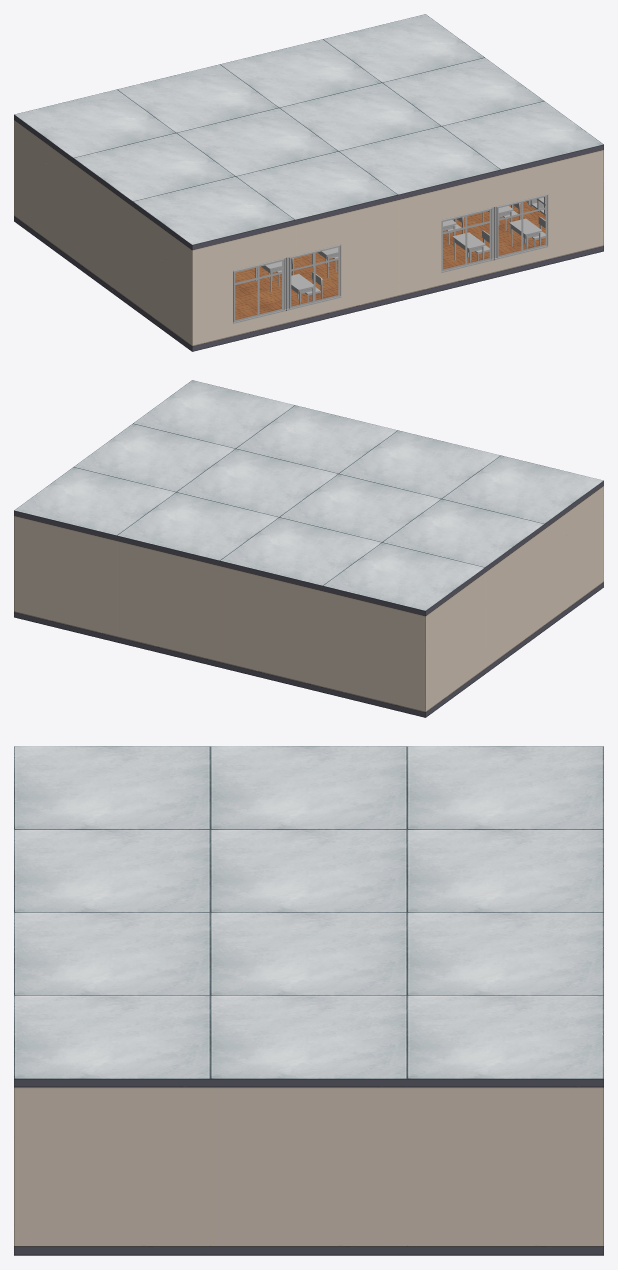
Rendered from Anime Classroom.fbx.
The picture shows the model from 3 angles, top to bottom: view 1: azimuth 30°, elevation 25°; view 2: azimuth 150°, elevation 25°; view 3: azimuth 270°, elevation 25°; orthographic projection. The views are drawn at different scales.
Visible parts, largest first — view 1: part_04, part_05, polySurface8178, polySurface8190, polySurface8166, polySurface8176; view 2: part_04; view 3: part_04.
Boxes of the visible parts, x1,y1,x2,y2 form: part_04: (14,14,603,351); part_05: (235,201,545,319); polySurface8178: (233,244,341,323); polySurface8190: (441,194,548,272); polySurface8166: (452,232,485,262); polySurface8176: (509,218,541,248); part_04: (14,380,603,717); part_04: (14,746,603,1255).
Size of the model in its own units: 2000 by 496 by 1500.
